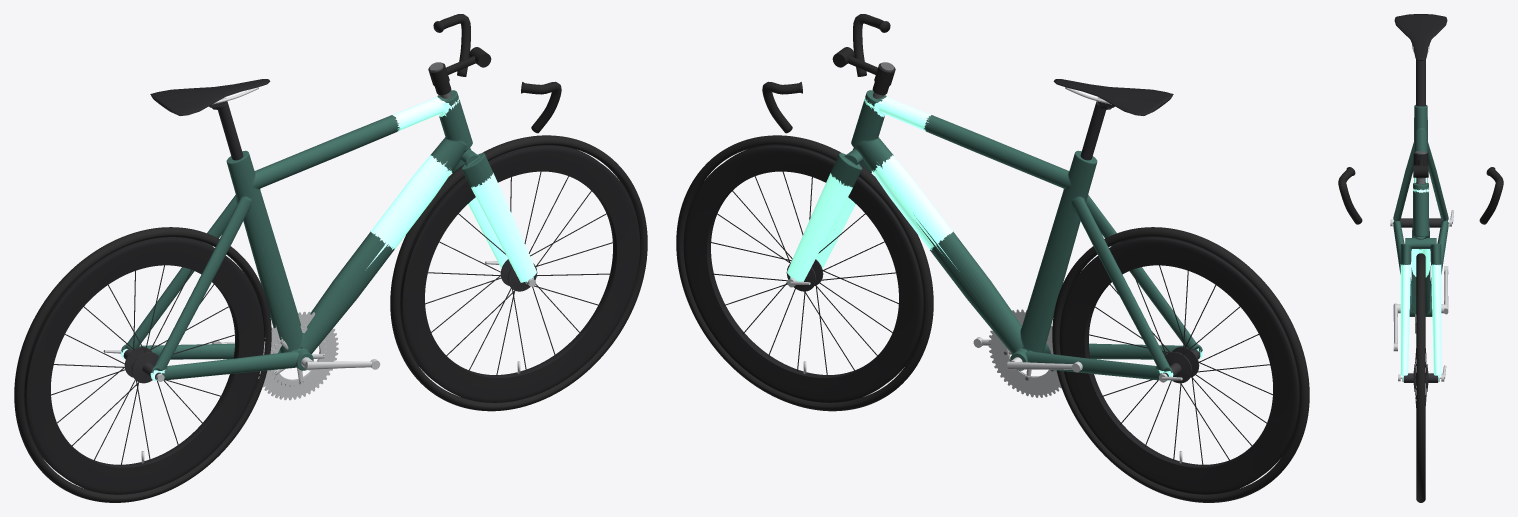
The model's file is bike_web_raw.glb.
The picture shows the model from 3 angles, left to right: view 1: azimuth 30°, elevation 25°; view 2: azimuth 150°, elevation 25°; view 3: azimuth 270°, elevation 25°; orthographic projection. The views are drawn at different scales.
Parts seen in each view (by area): view 1: frame, rim_rear, rim_front, tyre_rear, tyre_front, fork, spokes_front, chainrings, spokes_rear, saddle, dropbar, stem (+3 smaller); view 2: frame, rim_rear, rim_front, tyre_rear, tyre_front, fork, spokes_front, spokes_rear, saddle, chainrings, dropbar, stem (+3 smaller); view 3: frame, fork, tyre_front, saddle, dropbar, crank_arms, stem, seatpost, hub_front, hub_rear.
Boxes of the visible parts, x1,y1,x2,y2 form: frame: (121,90,472,380); rim_rear: (24,237,264,494); rim_front: (400,145,640,402); tyre_rear: (14,227,271,502); tyre_front: (390,135,647,411); fork: (452,147,536,283); spokes_front: (425,171,614,375); chainrings: (258,311,338,400); spokes_rear: (51,265,236,465); saddle: (150,79,270,115); dropbar: (433,14,561,133); stem: (428,47,491,98); frame: (851,90,1202,380); rim_rear: (1059,237,1299,494); rim_front: (683,145,923,402); tyre_rear: (1052,227,1309,502); tyre_front: (676,135,933,411); fork: (787,147,871,281); spokes_front: (710,171,898,375); spokes_rear: (1087,265,1272,465); saddle: (1053,79,1173,115); chainrings: (988,309,1061,397); dropbar: (762,14,890,133); stem: (832,47,895,98); frame: (1393,105,1448,316); fork: (1400,238,1441,381); tyre_front: (1416,253,1425,502); saddle: (1394,14,1447,60); dropbar: (1338,167,1503,224); crank_arms: (1393,266,1448,351); stem: (1413,151,1428,184); seatpost: (1416,59,1425,106); hub_front: (1402,364,1439,391); hub_rear: (1400,218,1441,227).
Bounding box in the file's own units: 1.66 × 0.9827 × 0.4466.
